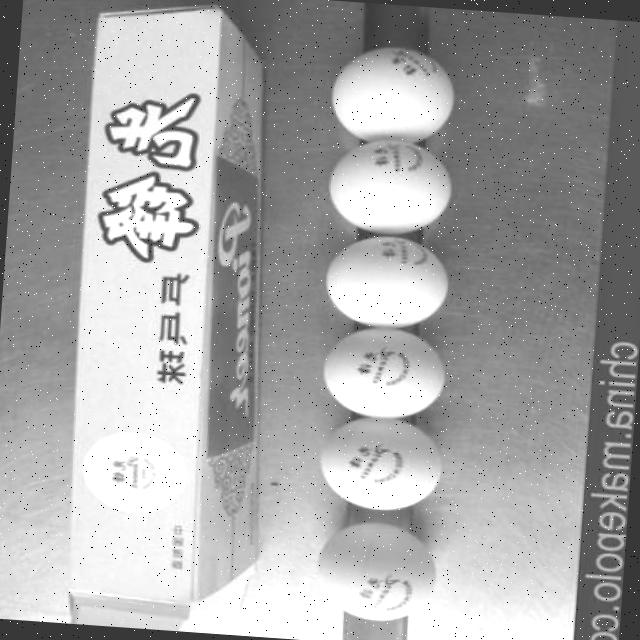ping-pong-ball: (318, 36, 461, 151), (317, 135, 456, 240), (306, 412, 446, 515), (304, 514, 438, 620), (319, 228, 452, 331), (314, 322, 448, 421)
